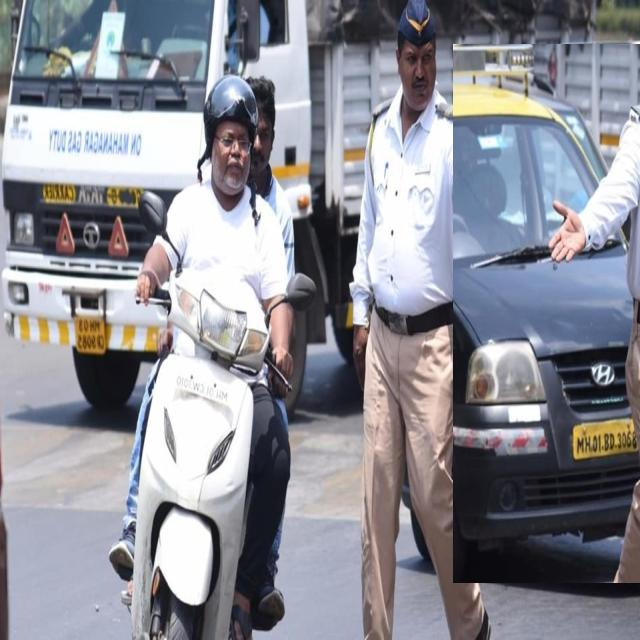car: (453, 45, 640, 583)
motorcycle: (111, 71, 322, 640)
truck: (0, 2, 598, 434)
